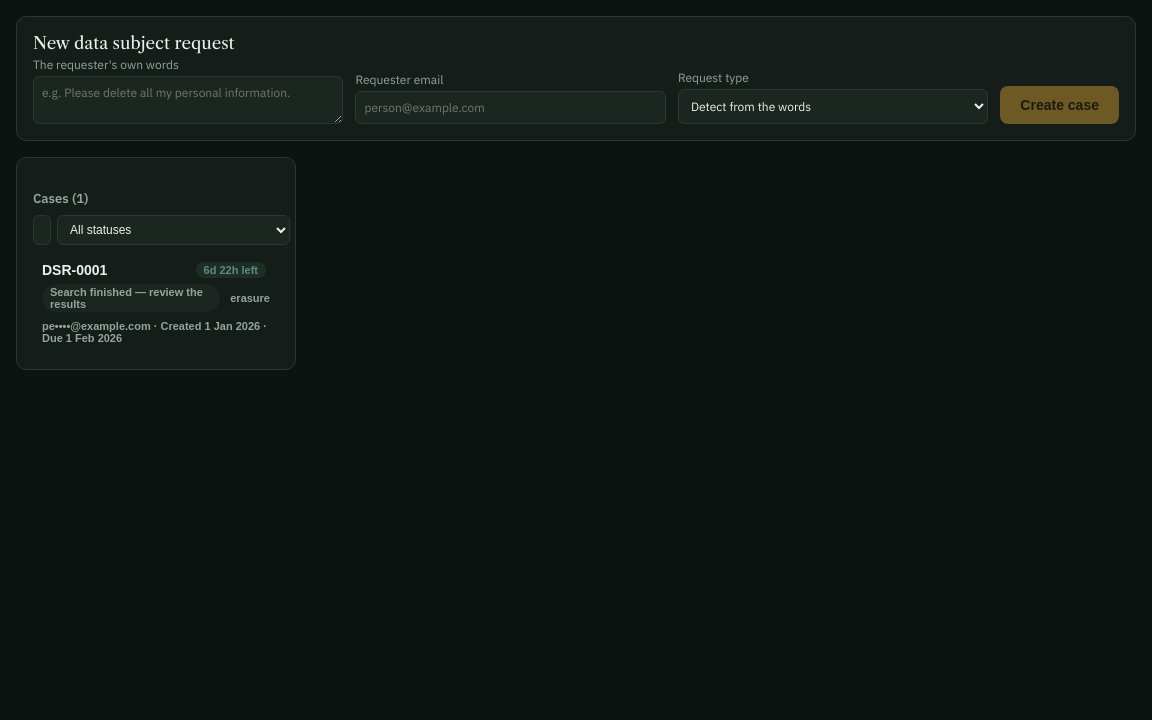
Test: DsrDashboard: case detail › selecting a case loads its detail and shows evidence from the real endpoints
Check: the text "DSR-0001" is shown, box [42, 262, 107, 278]
Click the button "DSR-0001" at (156, 303), box [33, 253, 279, 353]
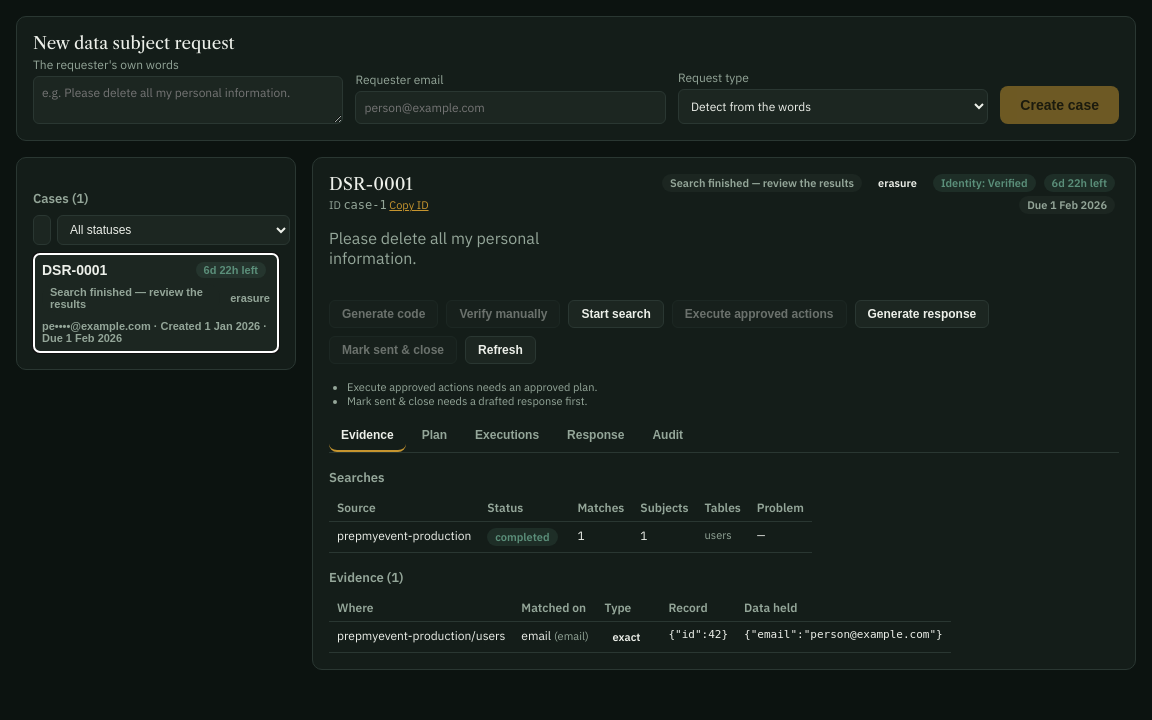
Check: the heading "DSR-0001" is shown, box [329, 174, 413, 194]
Check: the heading "Evidence (1)" is shown, box [329, 569, 403, 586]
Check: the text "prepmyevent-production/users" is shown, box [329, 622, 513, 652]
